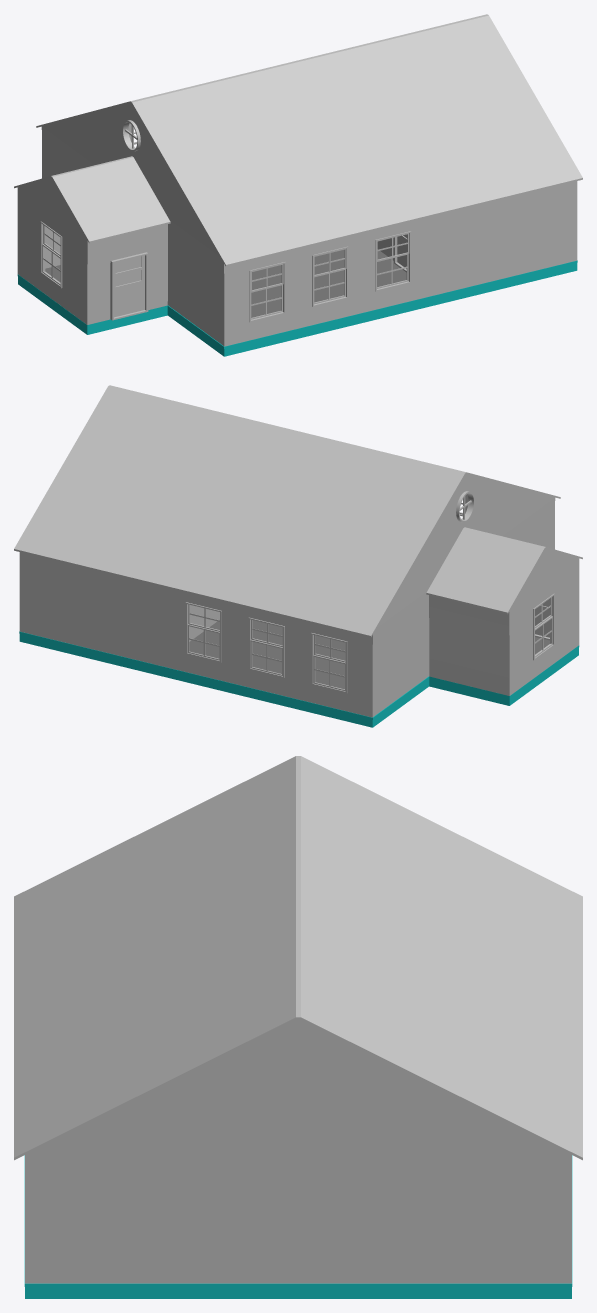
The model's file is BarrackHouse.fbx.
The picture shows the model from 3 angles, top to bottom: view 1: azimuth 30°, elevation 25°; view 2: azimuth 150°, elevation 25°; view 3: azimuth 270°, elevation 25°; orthographic projection. The views are drawn at different scales.
Visible parts, largest first — view 1: Roof, Walls, ConcreteFloor, WoodFloor, Door3; view 2: Roof, Walls, ConcreteFloor, WoodFloor; view 3: Roof, Walls, ConcreteFloor.
Part boxes in pixels (x1=…): Roof: x1=14, y1=14, x2=582, y2=266; Walls: x1=17, y1=123, x2=577, y2=346; ConcreteFloor: x1=17, y1=260, x2=577, y2=356; WoodFloor: x1=45, y1=249, x2=406, y2=317; Door3: x1=114, y1=255, x2=144, y2=317; Roof: x1=14, y1=385, x2=582, y2=637; Walls: x1=19, y1=494, x2=579, y2=717; ConcreteFloor: x1=19, y1=631, x2=579, y2=727; WoodFloor: x1=189, y1=620, x2=549, y2=689; Roof: x1=14, y1=756, x2=582, y2=1160; Walls: x1=25, y1=1153, x2=571, y2=1283; ConcreteFloor: x1=24, y1=1155, x2=572, y2=1298.
Size of the model in its own units: 1580 by 652 by 1189.
